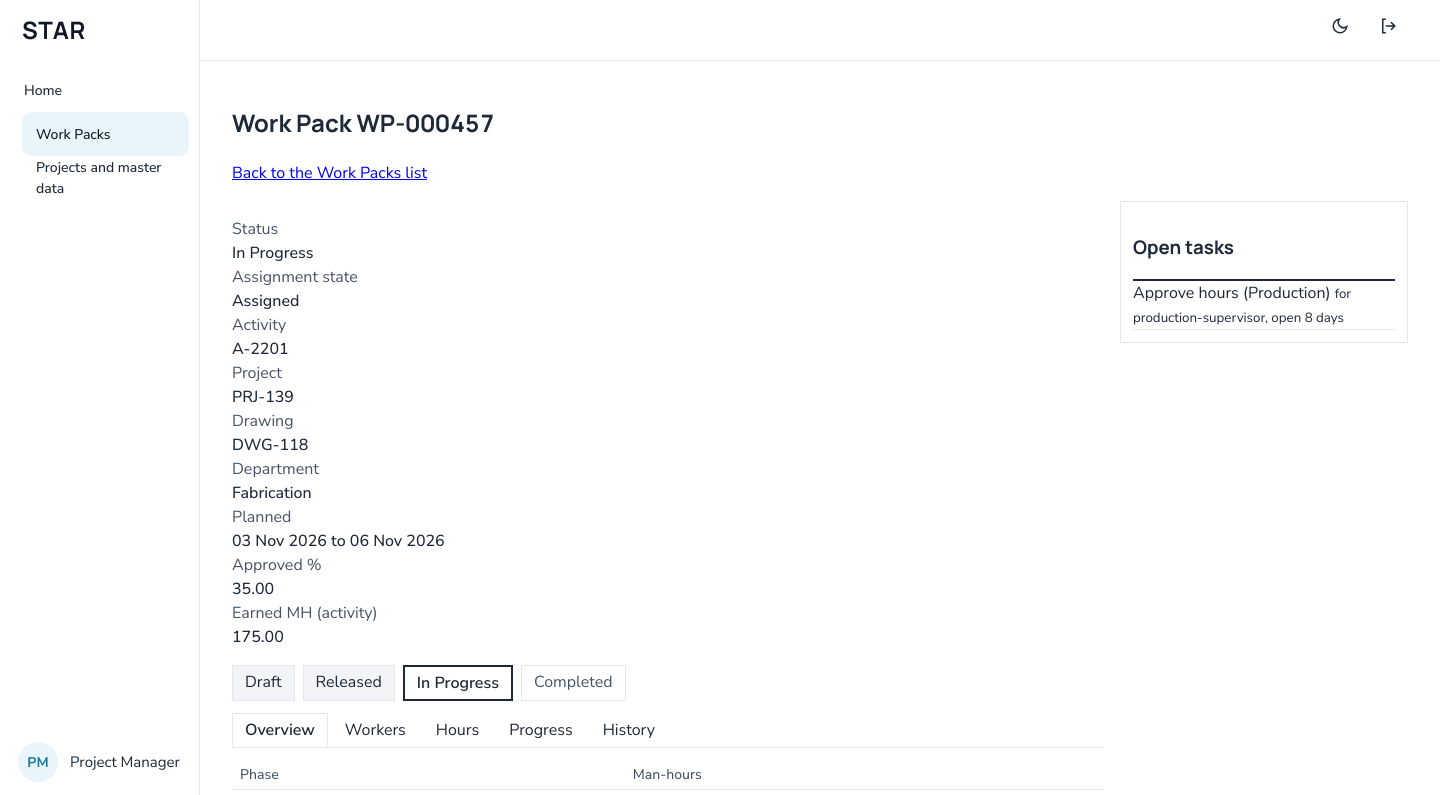
Test: WorkPackDetailPage › BPA83_reasonIsRequired
expect the element showing "Overview Workers Hours Progress History" is shown: met, box [232,713,1104,748]
Click the tab "Progress": (541, 730) [496,713,586,747]
(page scrolled)
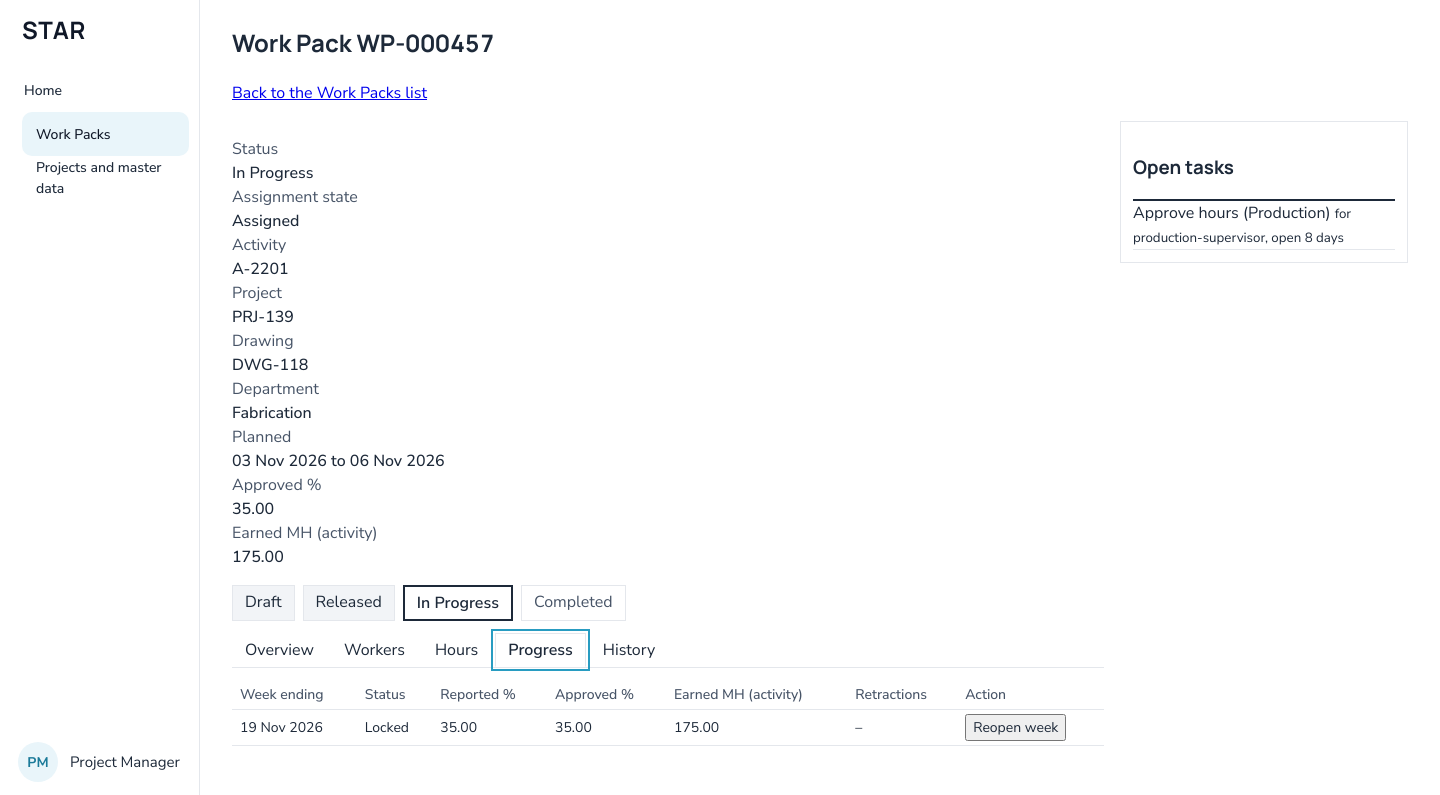
Click the button "Reopen week": (1016, 727) [965,714,1066,741]
(page scrolled)
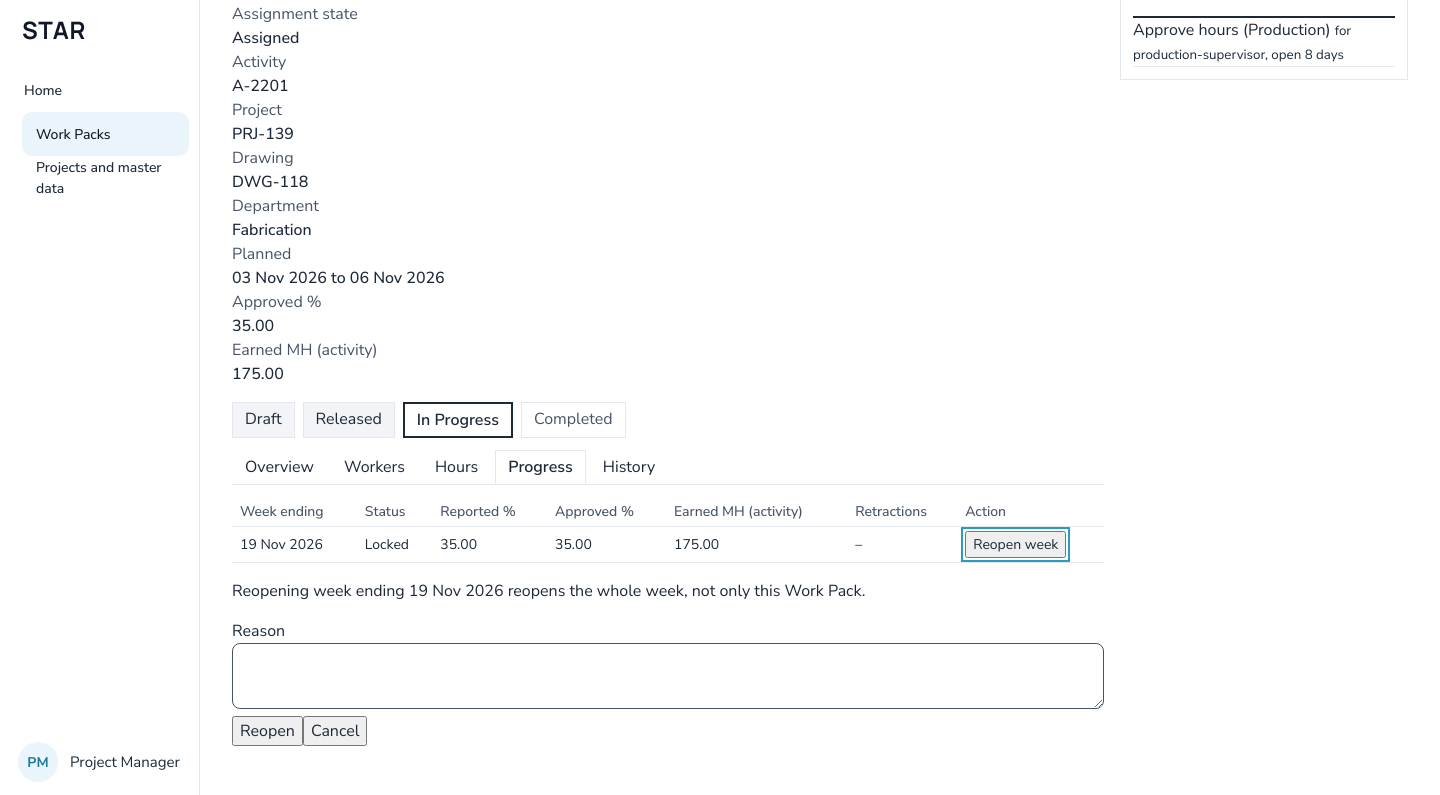
Click the button "Reopen": (267, 731) [232,716,303,746]
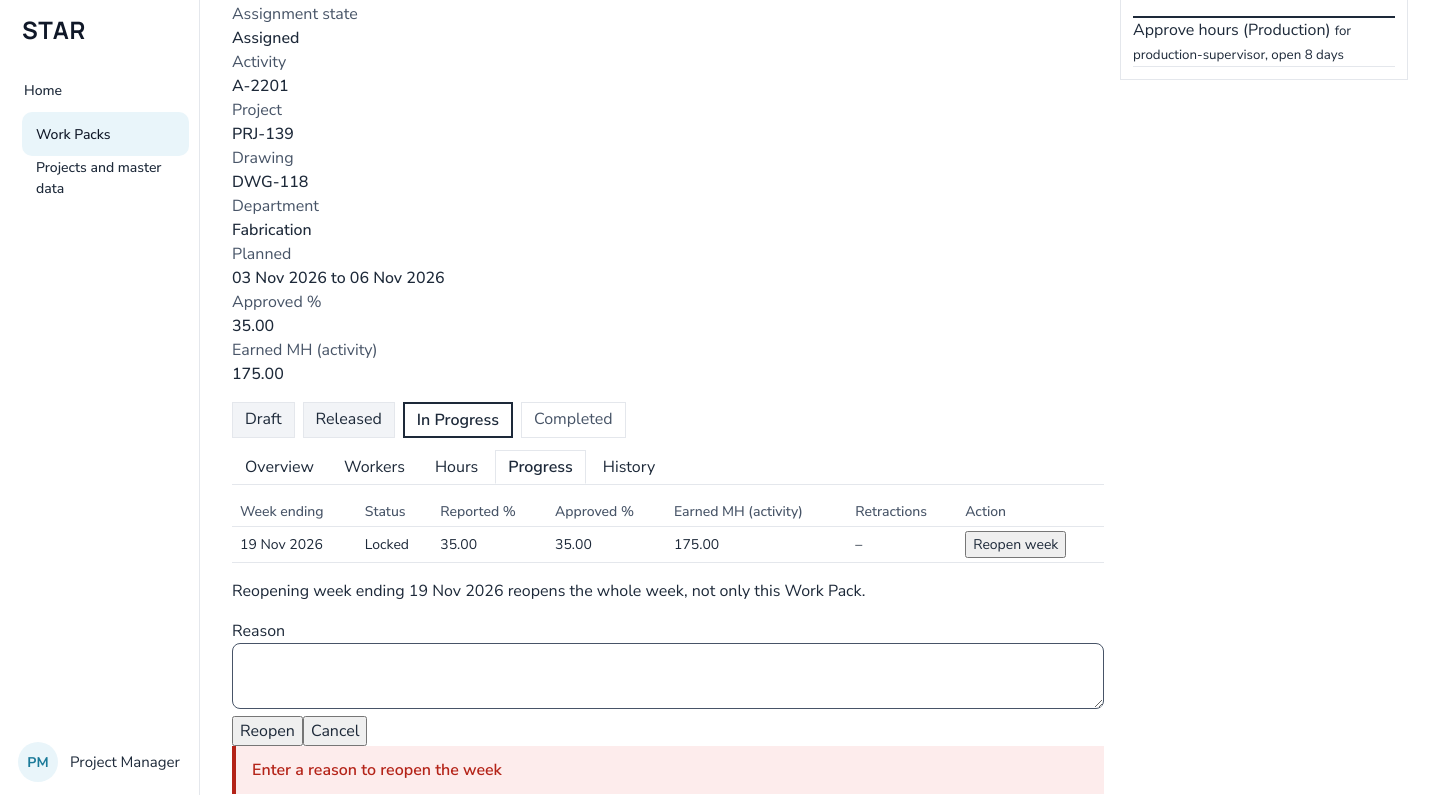
expect the row "19 Nov 2026 Locked 35.00 35.00 175.00 – Reopen week" is shown: met, box [232,526,1104,562]
expect the message reads "Enter a reason to reopen the week": met, box [252,759,502,781]
